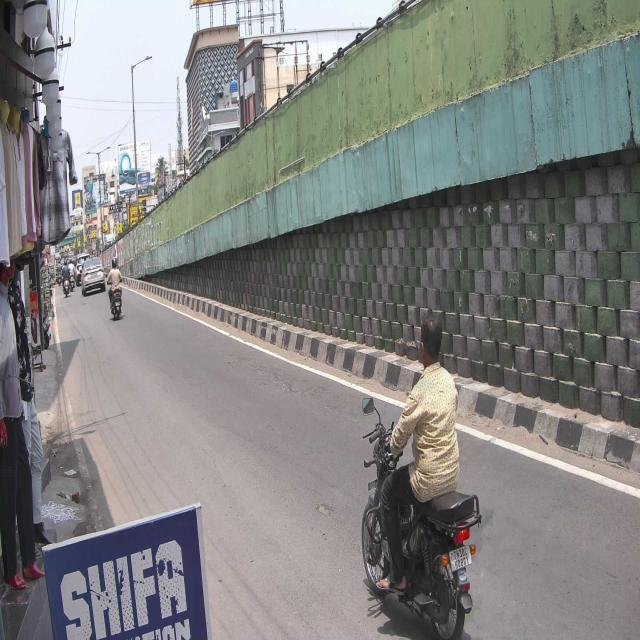single_rider: (362, 315, 480, 640)
